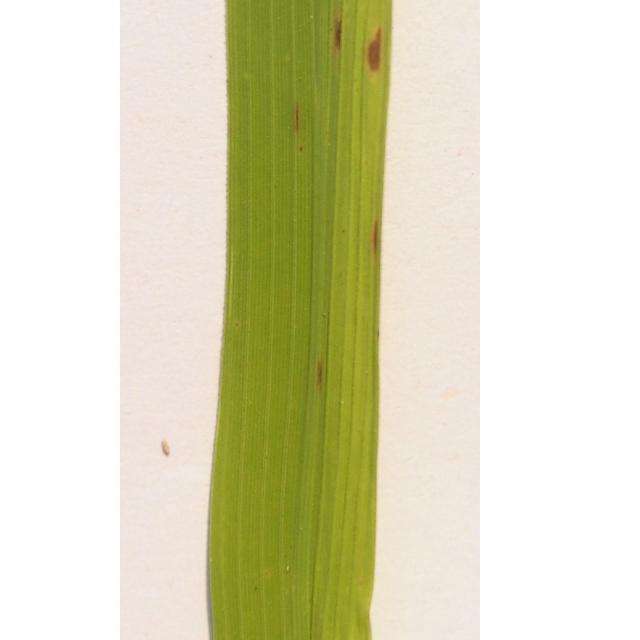Brown spot: (358, 21, 386, 74), (313, 357, 340, 397), (326, 10, 346, 56), (368, 202, 382, 264)
